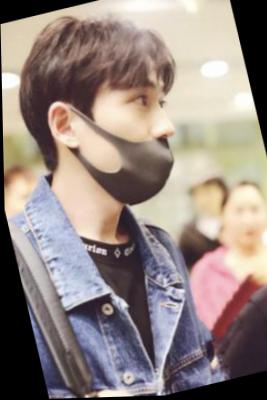NONE: (217, 190, 267, 254)
WRONG: (82, 75, 194, 213)
